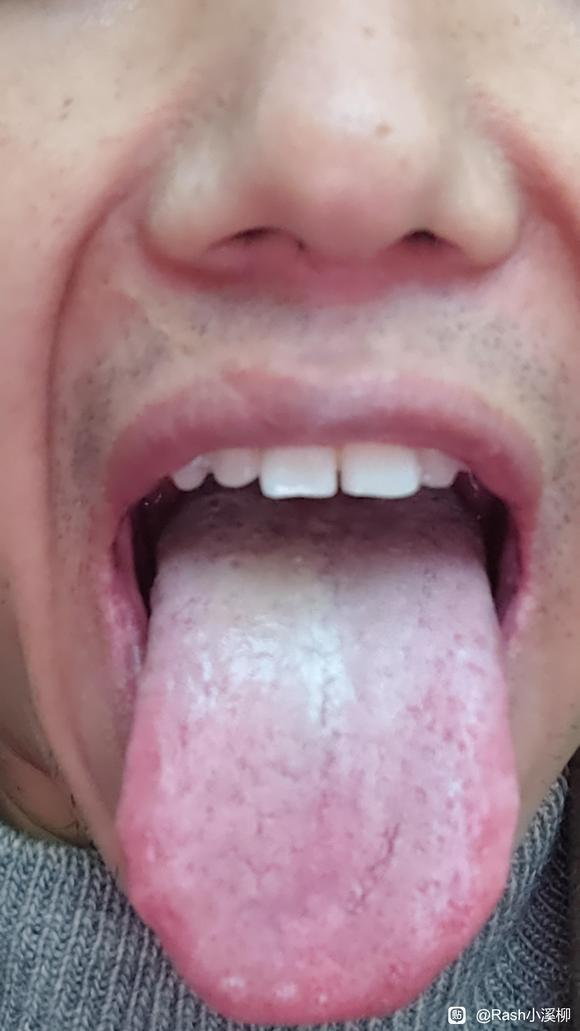baitaishe: (117, 489, 519, 1026)
hongshe: (116, 488, 518, 1025)
